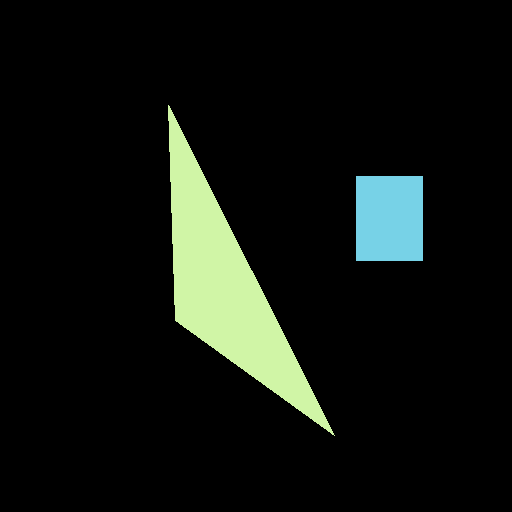rectangle: (356, 176, 422, 260)
triangle: (168, 105, 334, 435)
